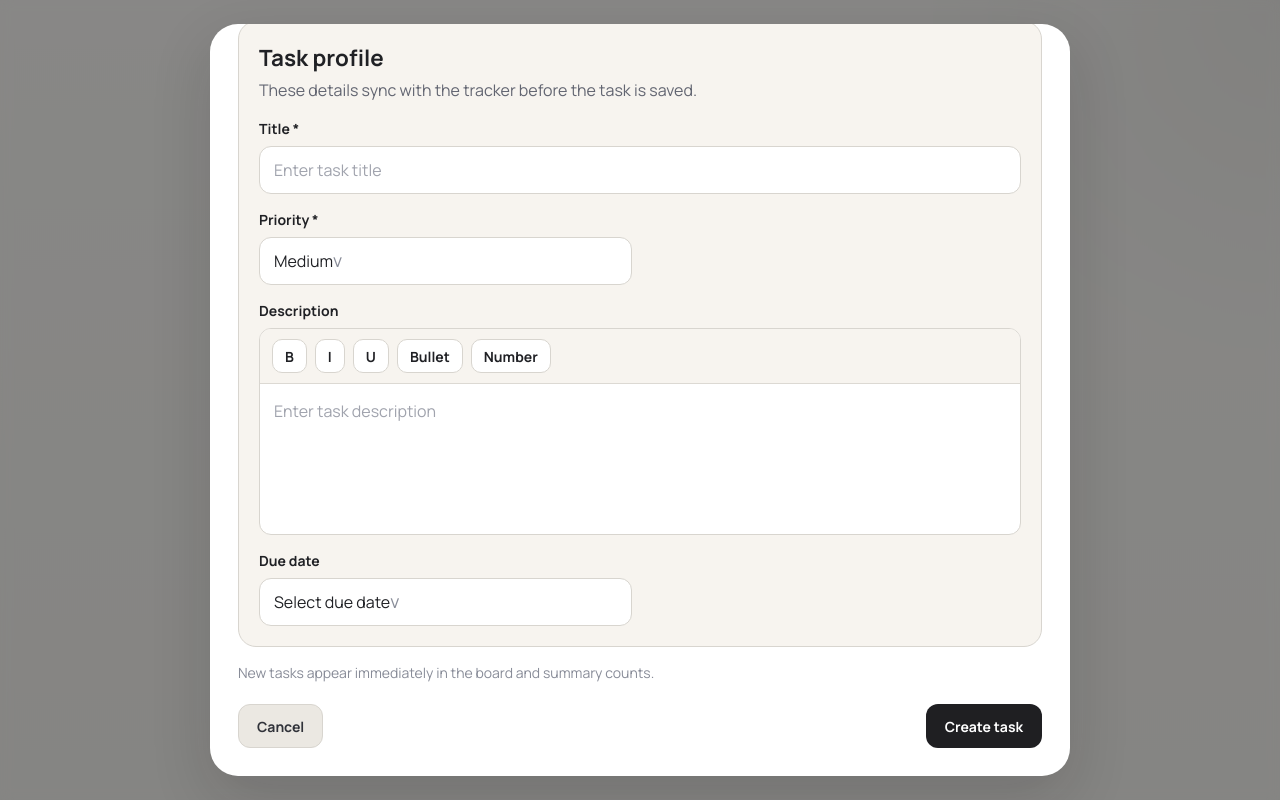
TaskFormDialog › shows a validation error when title is empty
(page scrolled)
Click the button "Create task" at (984, 726), box [926,704,1042,748]
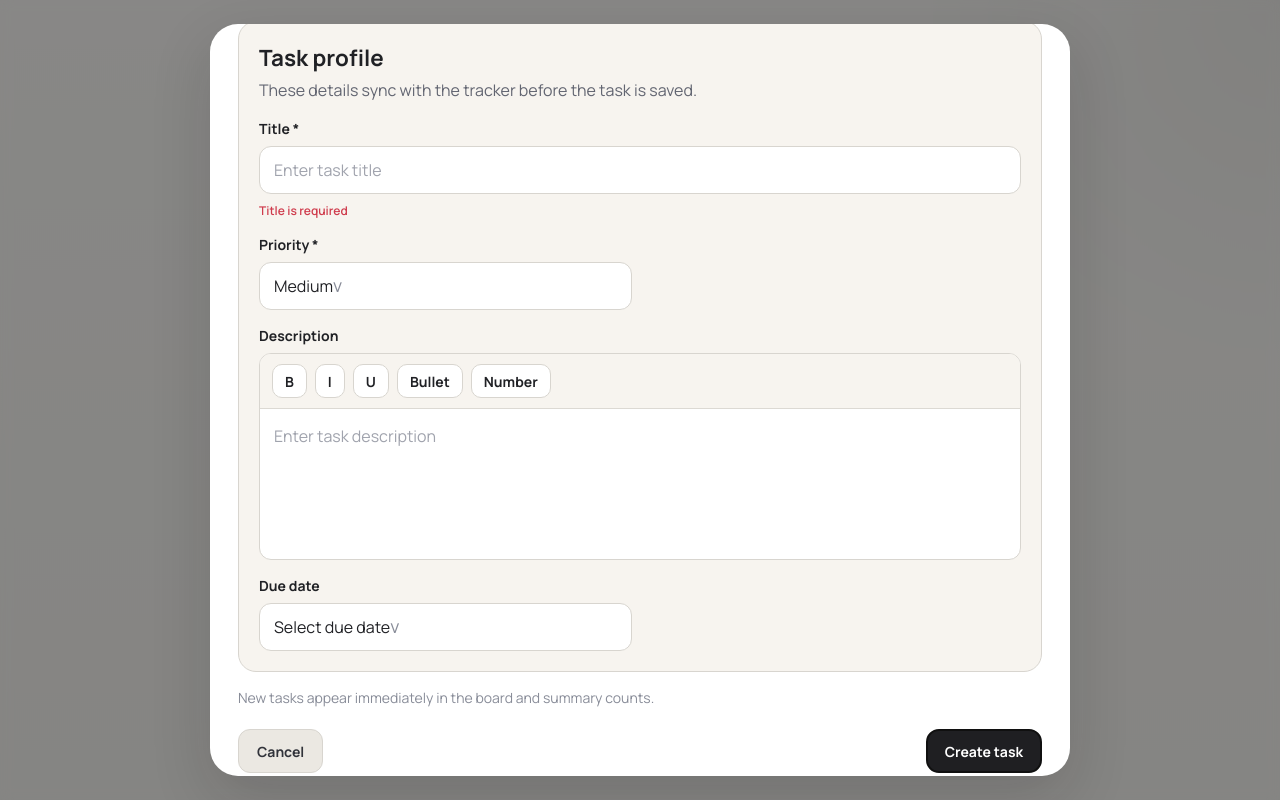
expect the text "Title is required" is shown: met, box [259,202,348,219]
